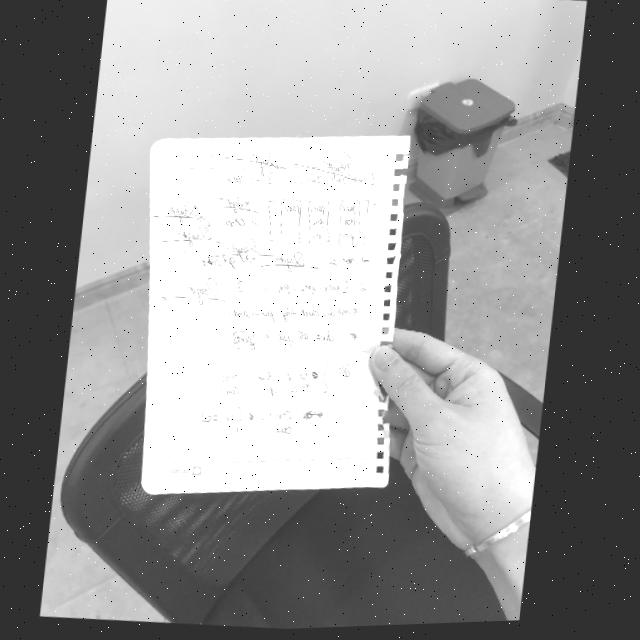document: (142, 134, 410, 495)
